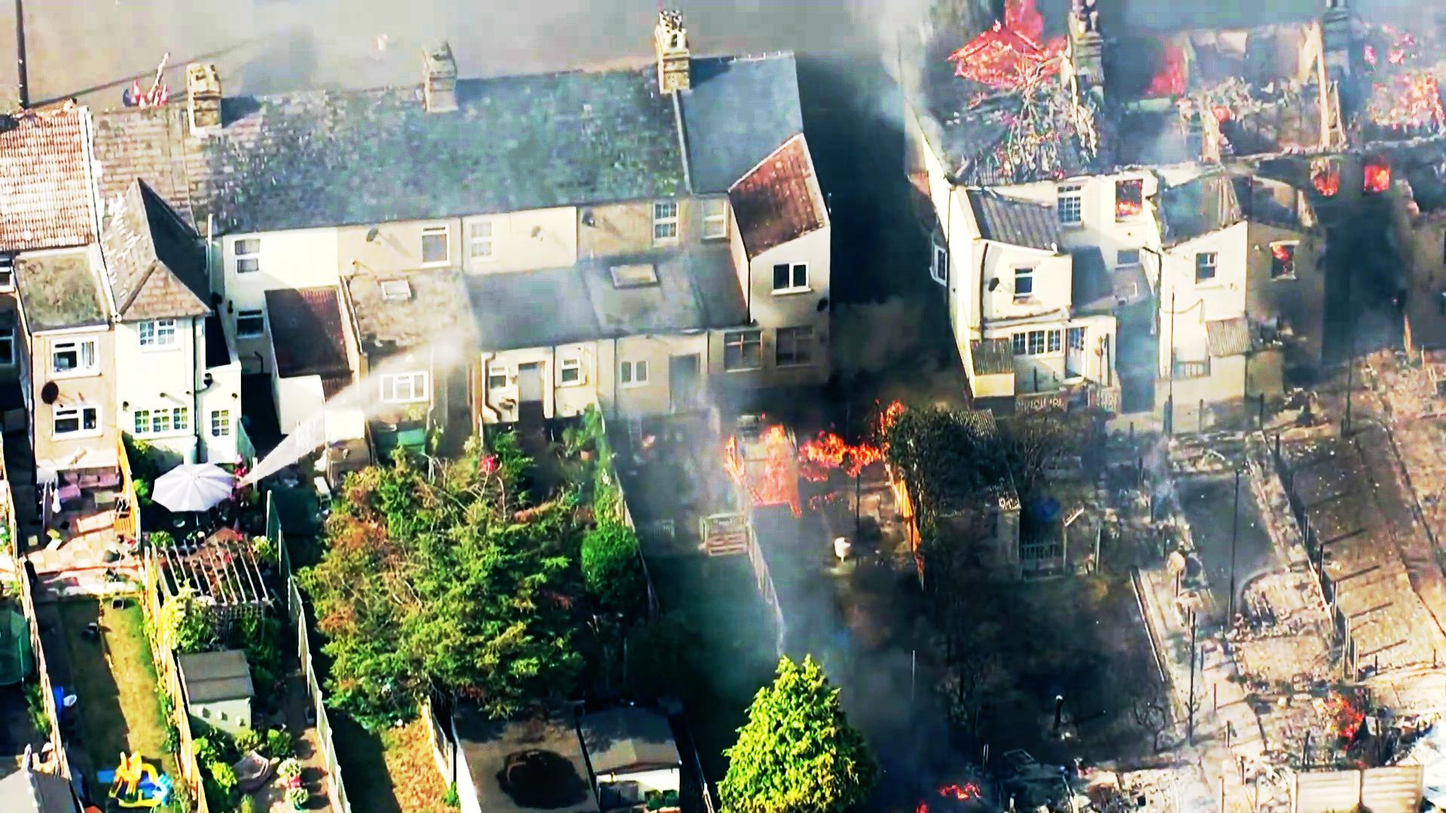fire: (703, 401, 885, 506), (930, 13, 1085, 94)
